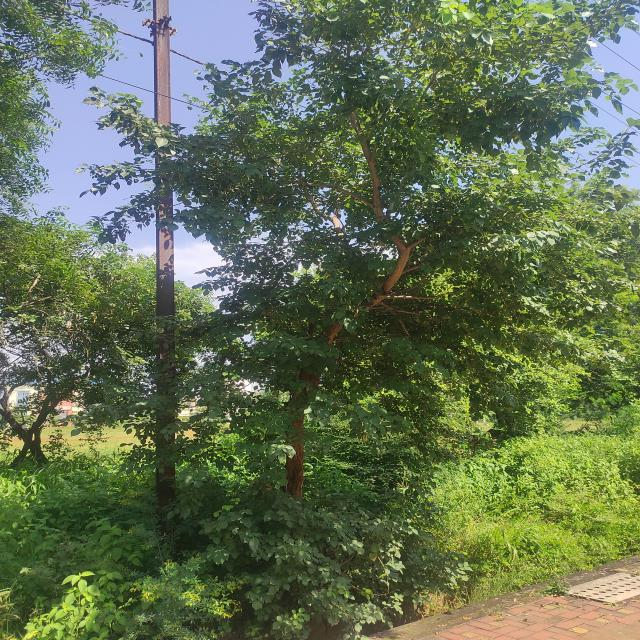Devakanchan tree: (184, 35, 489, 403)
Neem Tree: (1, 1, 117, 377)
